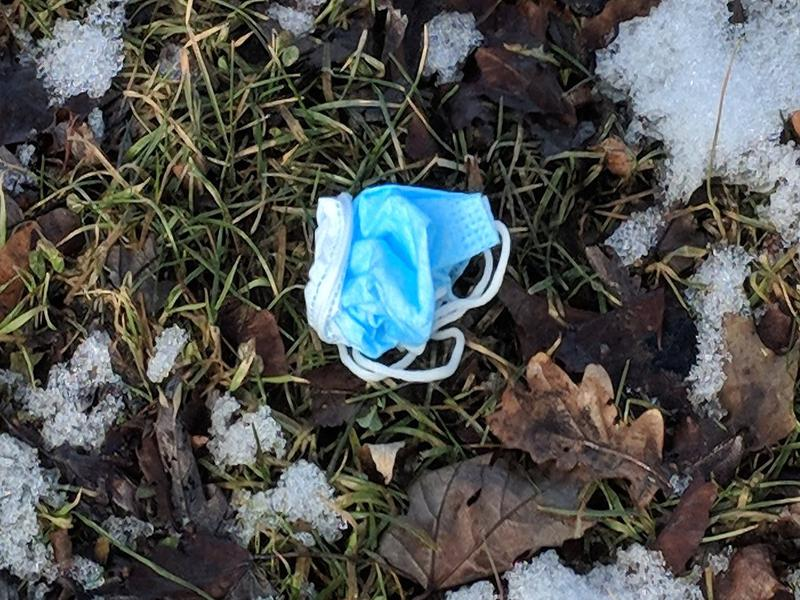leaf: (370, 451, 597, 588), (487, 347, 677, 502), (652, 476, 724, 574)
mask: (298, 175, 514, 384)
